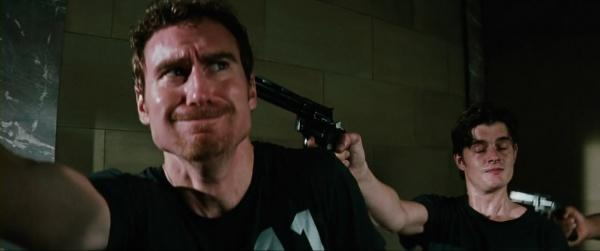Gun: (251, 74, 350, 168), (510, 190, 578, 241)
